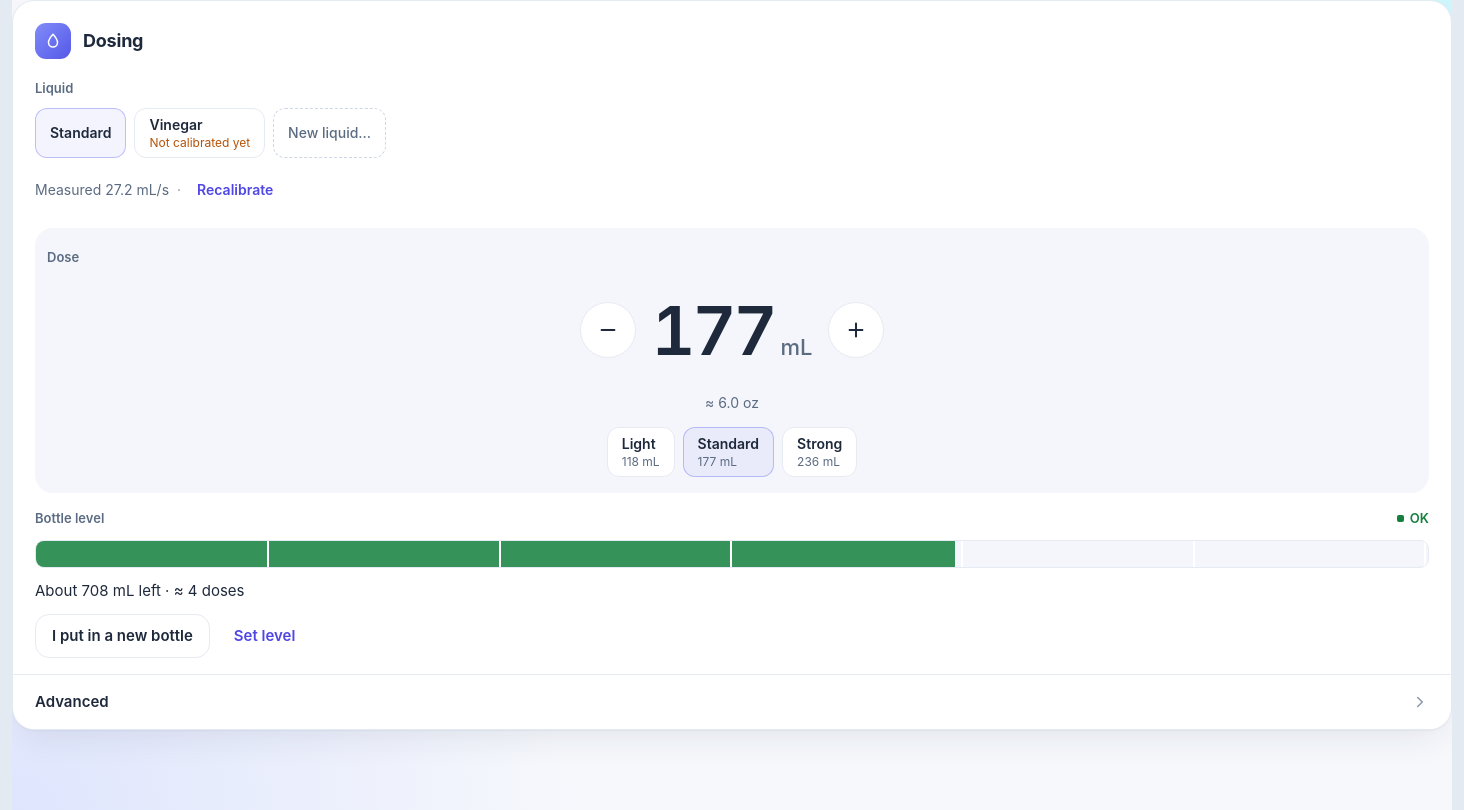
Test: DosingCard › explains DOSE_OUT_OF_RANGE with the API’s range
Click the button "Light 118 mL" at (641, 452), box [607, 427, 675, 477]
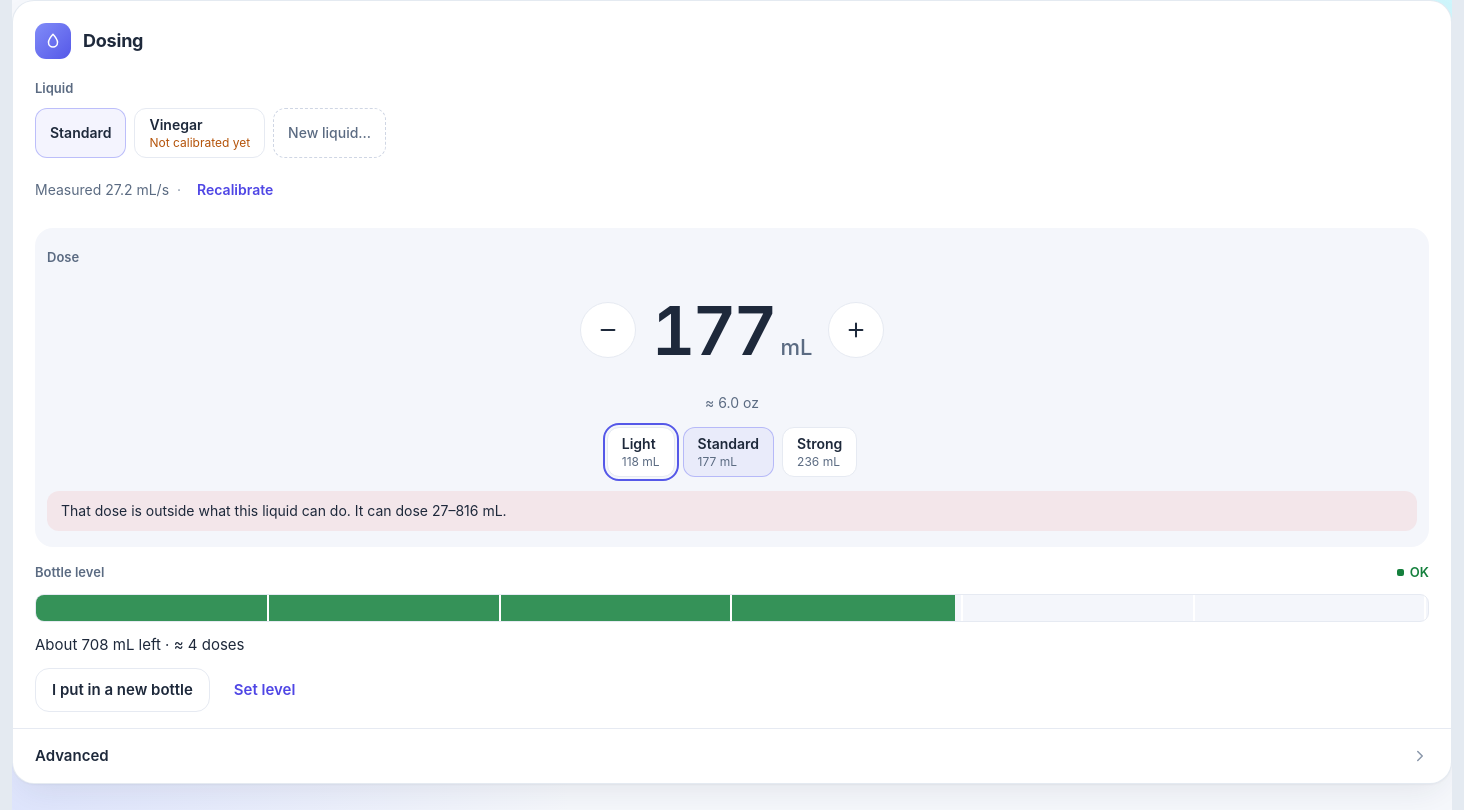
Check: the message shows "It can dose 27–816 mL.", box [47, 491, 1417, 531]
